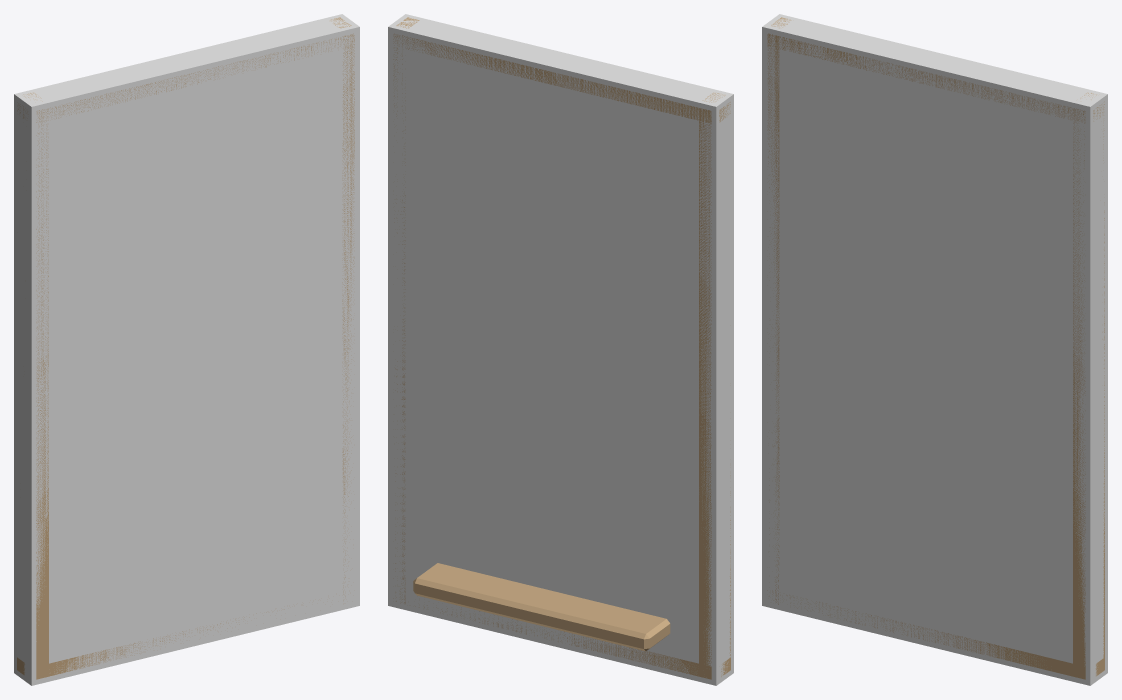
Rendered from standard.glb.
The picture shows the model from 3 angles, left to right: view 1: azimuth 30°, elevation 25°; view 2: azimuth 150°, elevation 25°; view 3: azimuth 330°, elevation 25°; orthographic projection.
Visible parts, largest first — view 1: COL_MIRRORS_STANDARD, Mirror_FrameSide.002, Mirror_FrameSide.003, Mirror_FrameRail.002, Mirror_FrameRail.003; view 2: COL_MIRRORS_STANDARD, Mirror_LowerShelf, Mirror_FrameSide.002, Mirror_FrameRail.003, Mirror_FrameRail.002, Mirror_FrameSide.003; view 3: COL_MIRRORS_STANDARD, Mirror_FrameSide.003, Mirror_FrameRail.003, Mirror_FrameRail.002, Mirror_FrameSide.002.
Part boxes in pixels (left/top/right/bottom): COL_MIRRORS_STANDARD: left=14, top=14, right=359, bottom=685; Mirror_FrameSide.002: left=23, top=92, right=48, bottom=679; Mirror_FrameSide.003: left=330, top=17, right=354, bottom=600; Mirror_FrameRail.002: left=17, top=609, right=284, bottom=679; Mirror_FrameRail.003: left=17, top=33, right=354, bottom=122; COL_MIRRORS_STANDARD: left=388, top=14, right=733, bottom=685; Mirror_LowerShelf: left=413, top=563, right=670, bottom=651; Mirror_FrameSide.002: left=699, top=92, right=730, bottom=677; Mirror_FrameRail.003: left=393, top=34, right=730, bottom=123; Mirror_FrameRail.002: left=396, top=597, right=730, bottom=679; Mirror_FrameSide.003: left=393, top=17, right=419, bottom=603; COL_MIRRORS_STANDARD: left=762, top=14, right=1107, bottom=685; Mirror_FrameSide.003: left=1073, top=92, right=1104, bottom=677; Mirror_FrameRail.003: left=767, top=33, right=1104, bottom=123; Mirror_FrameRail.002: left=767, top=590, right=1104, bottom=679; Mirror_FrameSide.002: left=767, top=17, right=791, bottom=604.
Size of the model in its own units: 1.08 by 1.82 by 0.23.
